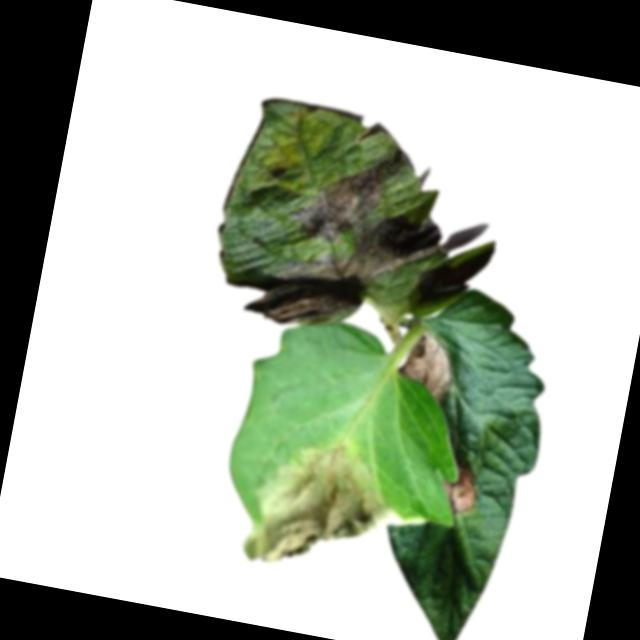Late_blight: (207, 118, 455, 345), (240, 431, 410, 590), (396, 324, 462, 405), (436, 463, 485, 521)
